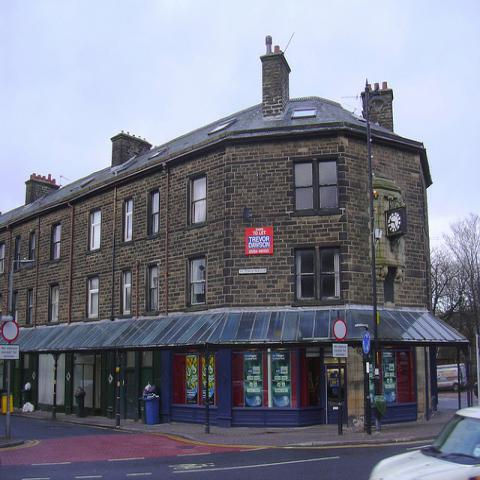car: (370, 406, 479, 479)
truck: (437, 363, 467, 390)
